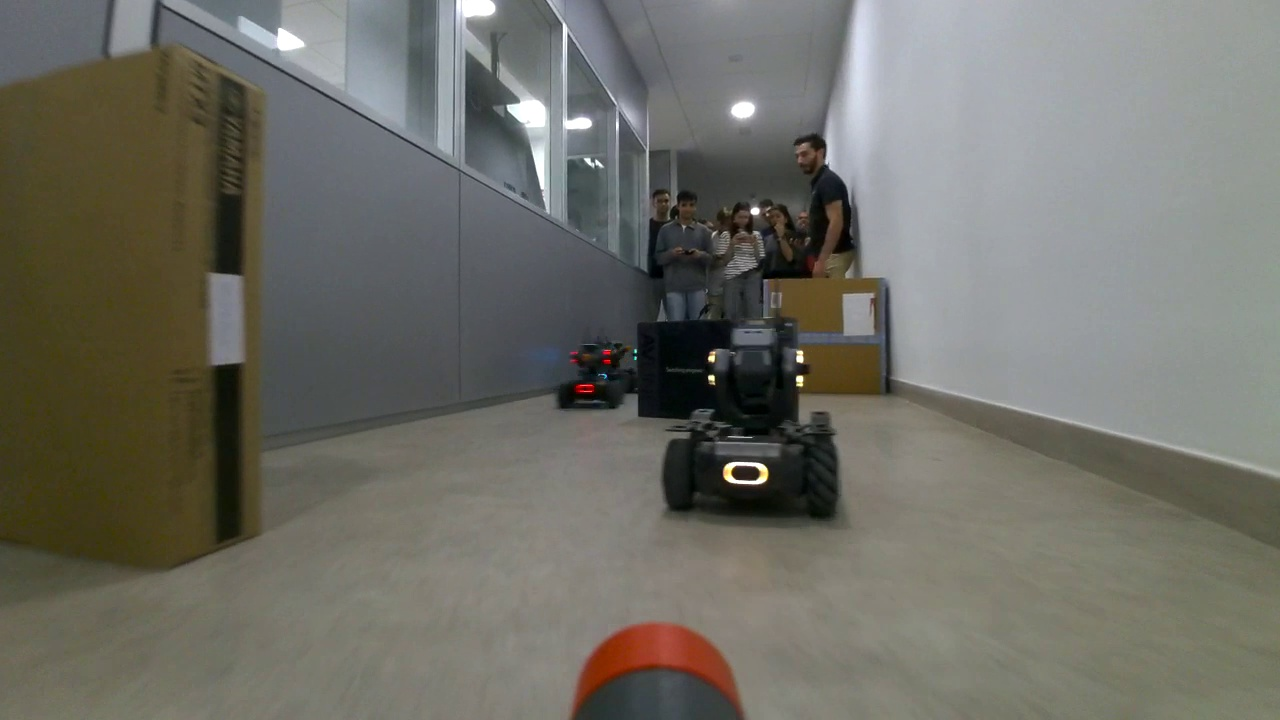robot: (656, 314, 847, 523), (553, 343, 627, 412)
